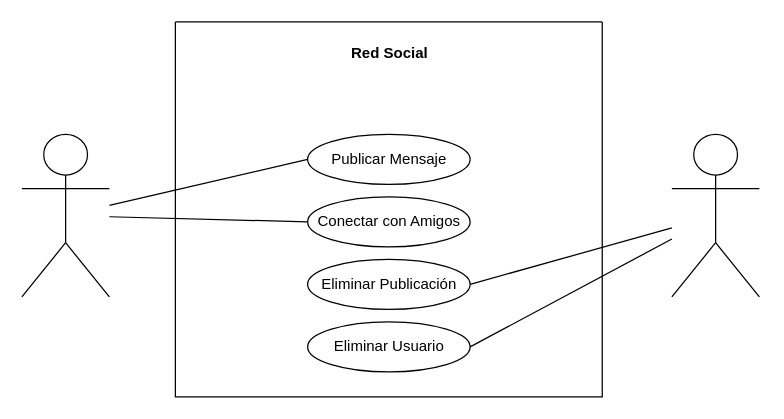
Image size: 784x419. Some labels were removed from this diagram. The centre of each missing label's shape, as x and y in pixels:
Administrador: pixel 715 215
Usuario: pixel 65 215
